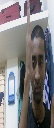hand: (25, 1, 34, 79)
